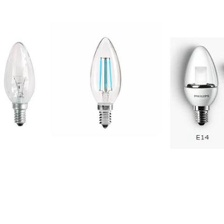light_bulb: (86, 31, 124, 130), (179, 42, 222, 127), (2, 38, 37, 127)
